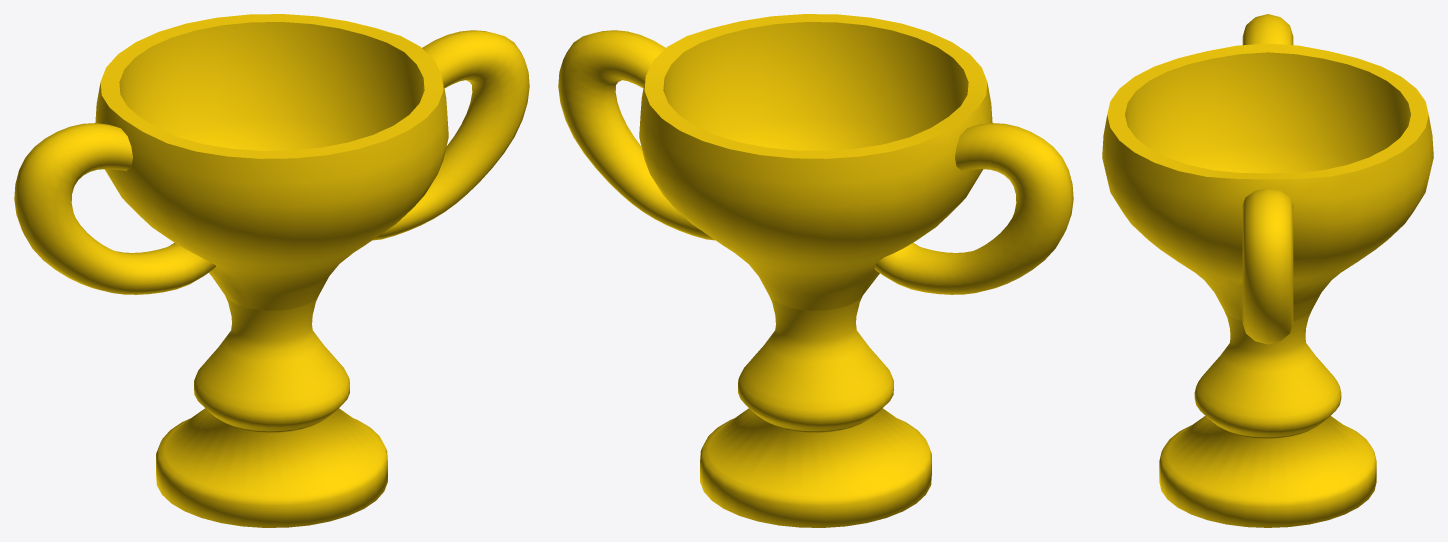
File: GoldTrophy.fbx
The picture shows the model from 3 angles, left to right: view 1: azimuth 30°, elevation 25°; view 2: azimuth 150°, elevation 25°; view 3: azimuth 270°, elevation 25°; orthographic projection. The views are drawn at different scales.
Parts seen in each view (by area): view 1: GoldTrophy; view 2: GoldTrophy; view 3: GoldTrophy.
Boxes of the visible parts, x1,y1,x2,y2 form: GoldTrophy: (14,14,529,527); GoldTrophy: (558,14,1073,527); GoldTrophy: (1102,14,1433,527).
Bounding box in the file's own units: 4.54 × 2.74 × 3.39.
